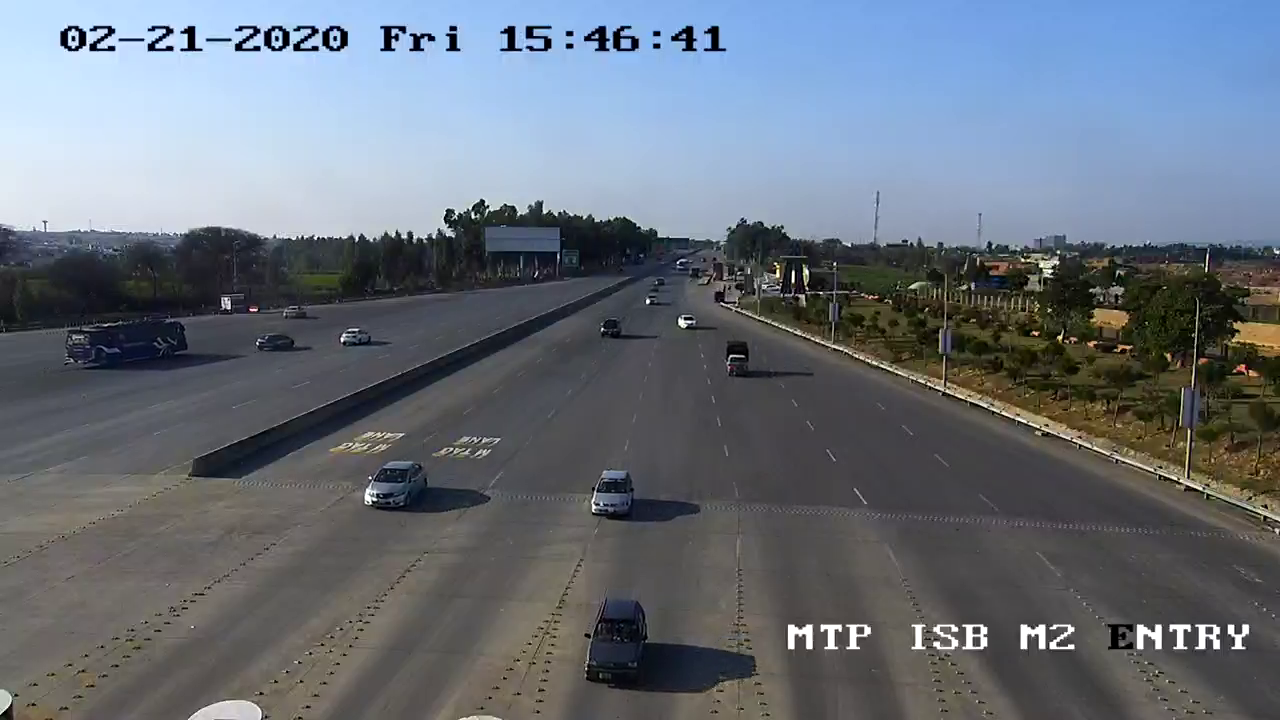f1: (571, 593, 657, 693), (350, 456, 437, 517), (583, 462, 646, 531)
